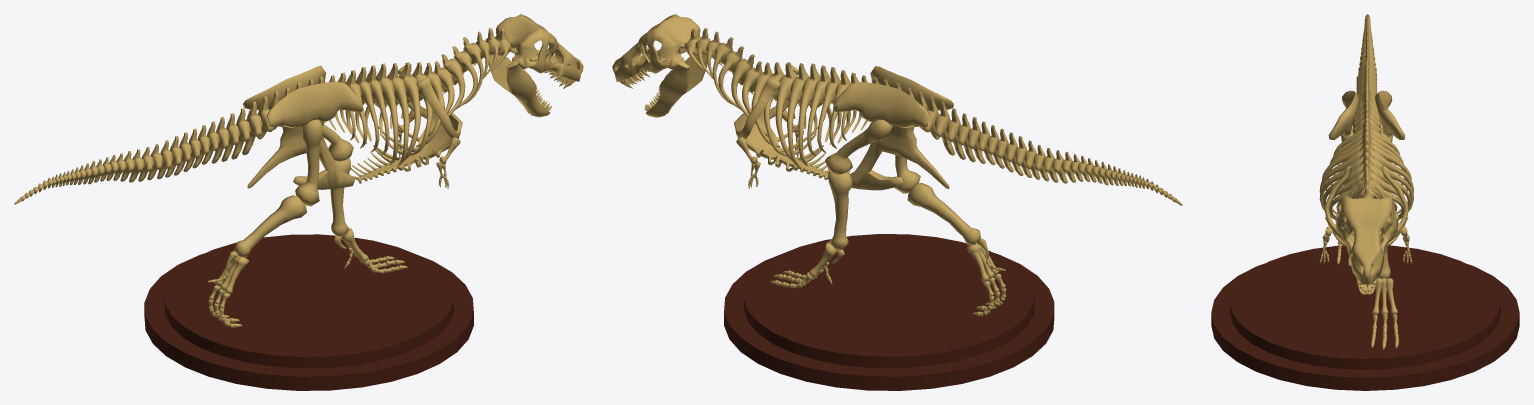
Rendered from dinosaurs.fbx.
The picture shows the model from 3 angles, left to right: view 1: azimuth 30°, elevation 25°; view 2: azimuth 150°, elevation 25°; view 3: azimuth 270°, elevation 25°; orthographic projection. The views are drawn at different scales.
Parts seen in each view (by area): view 1: vertebra.017, Cylinder.002, Cylinder.001, jaw; view 2: vertebra.017, Cylinder.002, Cylinder.001, jaw; view 3: Cylinder.002, vertebra.017, Cylinder.001.
Part boxes in pixels (<box>): vertebra.017: <box>14,14,583,327</box>; Cylinder.002: <box>164,234,453,368</box>; Cylinder.001: <box>144,253,473,390</box>; jaw: <box>488,55,549,117</box>; vertebra.017: <box>612,14,1182,316</box>; Cylinder.002: <box>744,234,1034,368</box>; Cylinder.001: <box>724,253,1054,390</box>; jaw: <box>646,55,707,117</box>; Cylinder.002: <box>1230,245,1500,369</box>; vertebra.017: <box>1319,14,1413,349</box>; Cylinder.001: <box>1211,263,1519,390</box>.
Bounding box in the file's own units: 3748 × 1567 × 1886.
